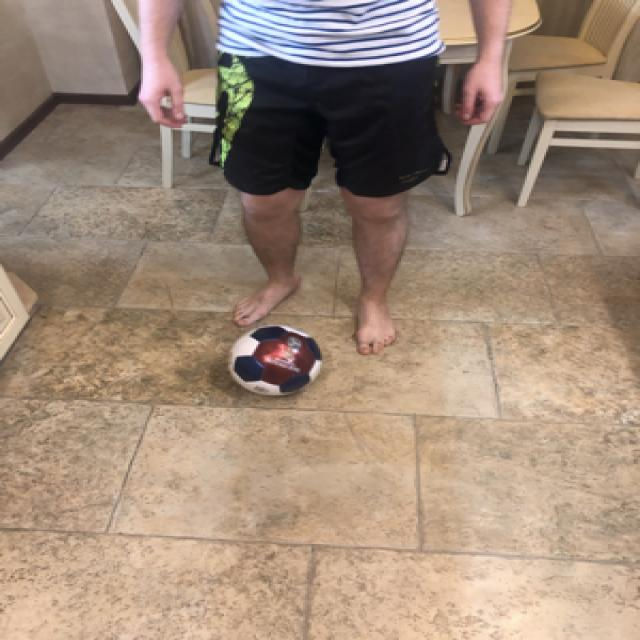soccer_ball: (222, 322, 322, 396)
